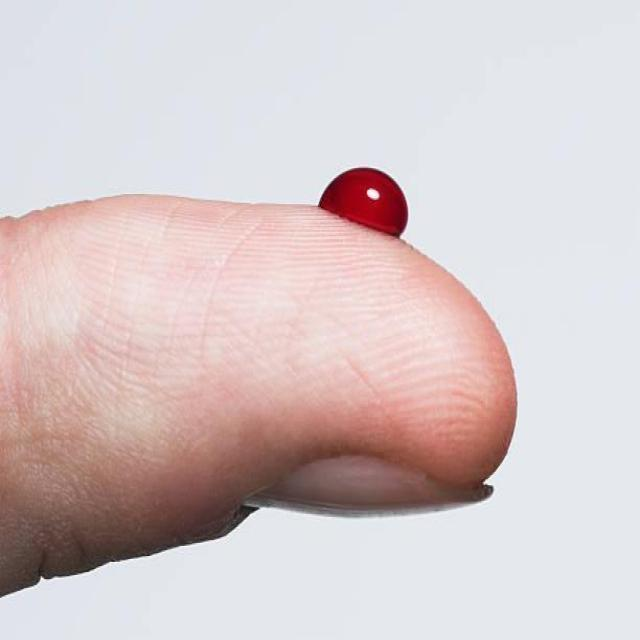flood: (297, 156, 424, 256)
